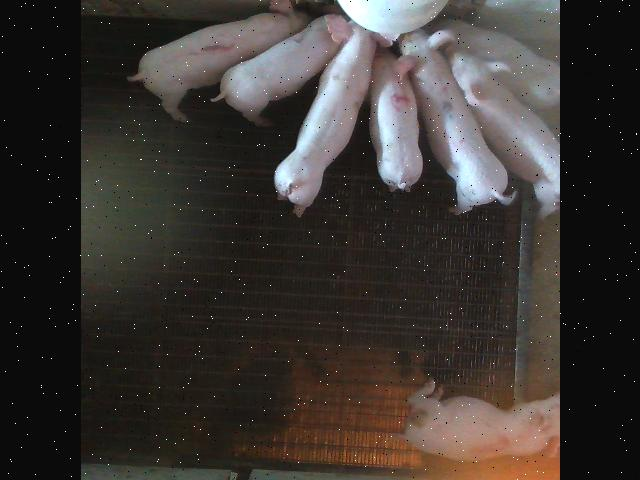pig-1: (126, 0, 309, 121)
pig-3: (400, 379, 558, 461)
pig-4: (369, 48, 422, 191)
